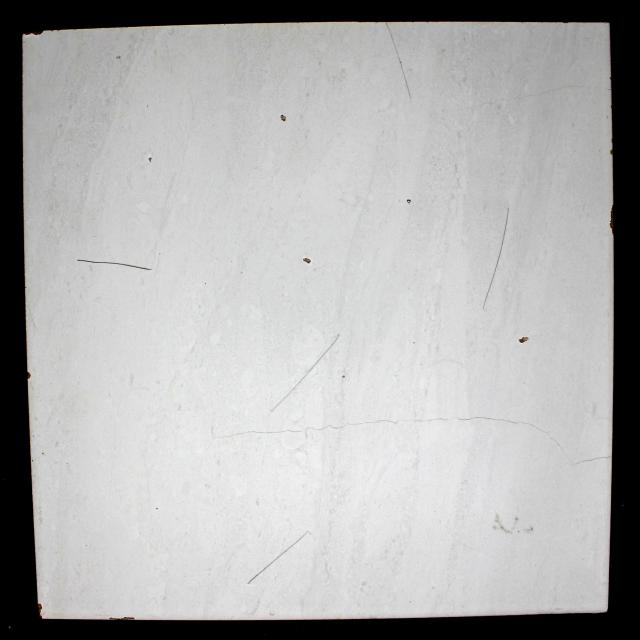edge-chipping: (609, 204, 614, 235), (22, 30, 44, 37), (109, 616, 135, 620), (37, 604, 42, 619), (27, 371, 31, 380), (610, 149, 613, 155)
hole: (519, 337, 528, 344), (303, 257, 311, 264), (280, 114, 286, 122), (406, 199, 411, 204), (341, 374, 346, 378), (148, 157, 152, 162)
line: (270, 334, 340, 411), (247, 530, 309, 584), (482, 208, 509, 310), (515, 422, 572, 464), (386, 22, 412, 102), (310, 419, 424, 430), (214, 427, 310, 439), (77, 258, 153, 270), (425, 416, 515, 424), (572, 456, 611, 466)
